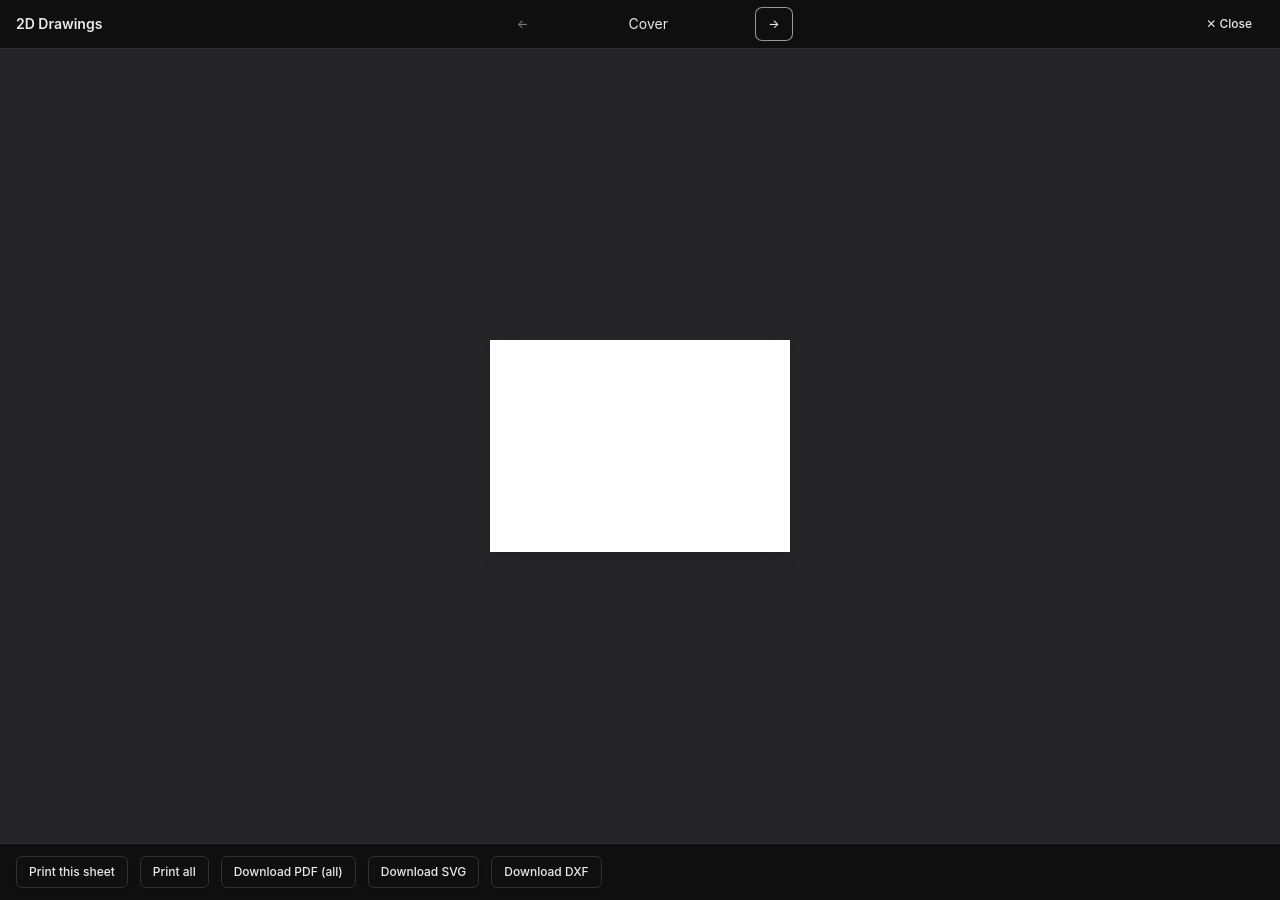
Test case: DrawingViewer › names an assembly sheet as an assembly
Click the button "→".
click(774, 24)  # box [756, 8, 792, 40]
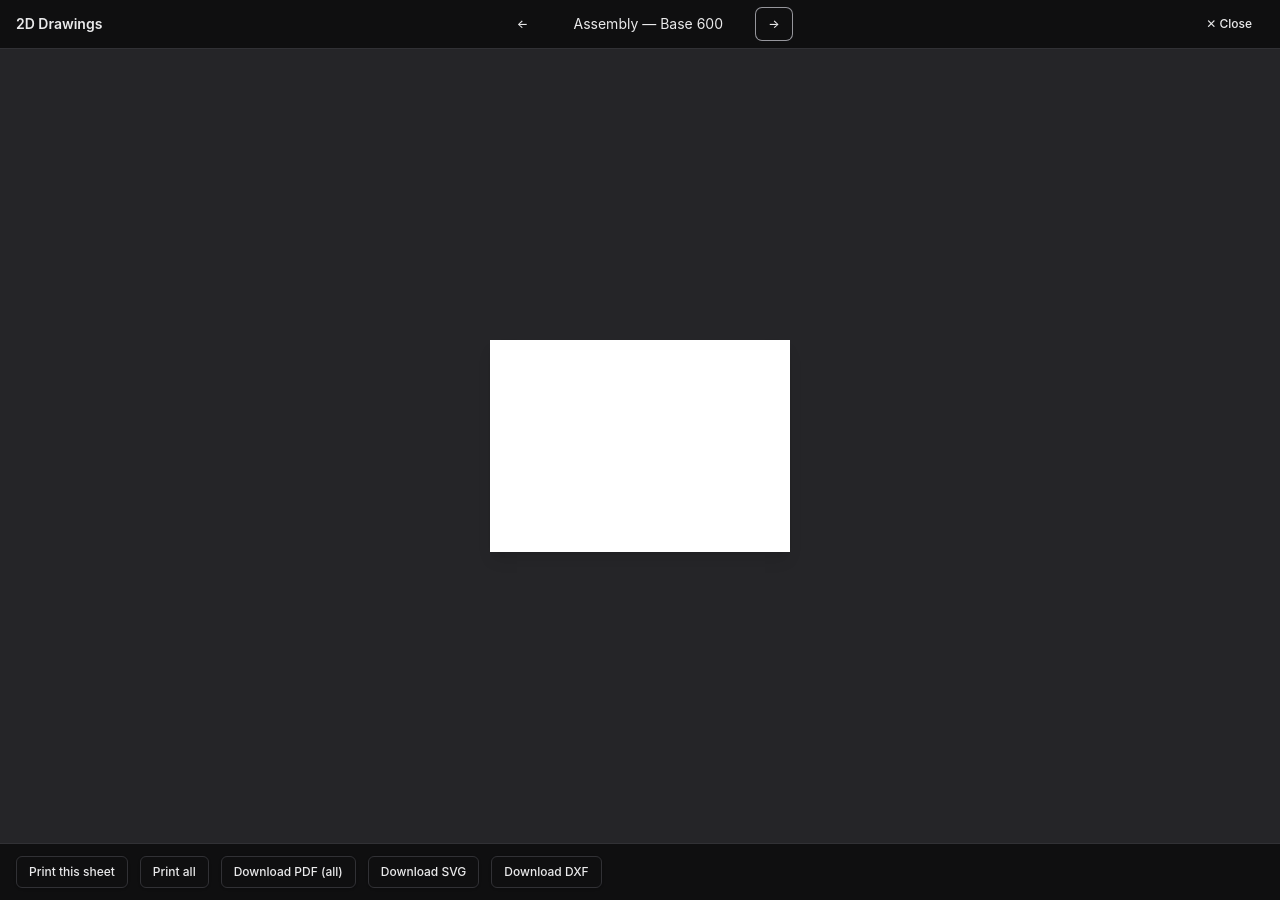
Expected: the text "Assembly — Base 600" is shown, [574, 15, 723, 32]
